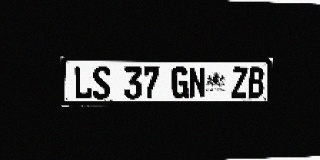3: (124, 66, 142, 99)
7: (142, 66, 159, 99)
B: (248, 67, 264, 98)
G: (172, 67, 188, 99)
L: (74, 66, 92, 99)
N: (189, 67, 205, 98)
S: (92, 66, 110, 99)
Z: (232, 67, 248, 98)
